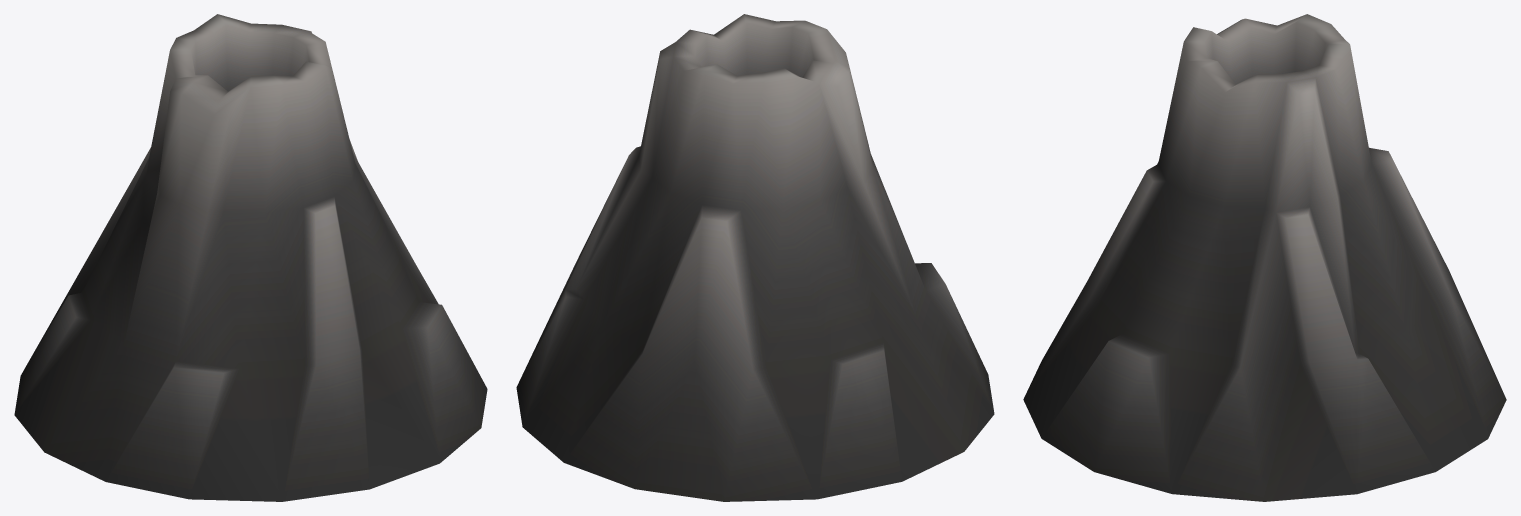
Rendered from m_Volcano04_A.fbx.
3 views of the same model, side by side, from view 1: azimuth 30°, elevation 25°; view 2: azimuth 150°, elevation 25°; view 3: azimuth 270°, elevation 25° (orthographic).
Visible parts, largest first — view 1: m_Volcano04_A; view 2: m_Volcano04_A; view 3: m_Volcano04_A.
Boxes of the visible parts, <box> form: m_Volcano04_A: <box>14,14,487,501</box>; m_Volcano04_A: <box>516,14,994,501</box>; m_Volcano04_A: <box>1023,14,1506,501</box>.
Bounding box in the file's own units: 1600 × 1314 × 1600.
